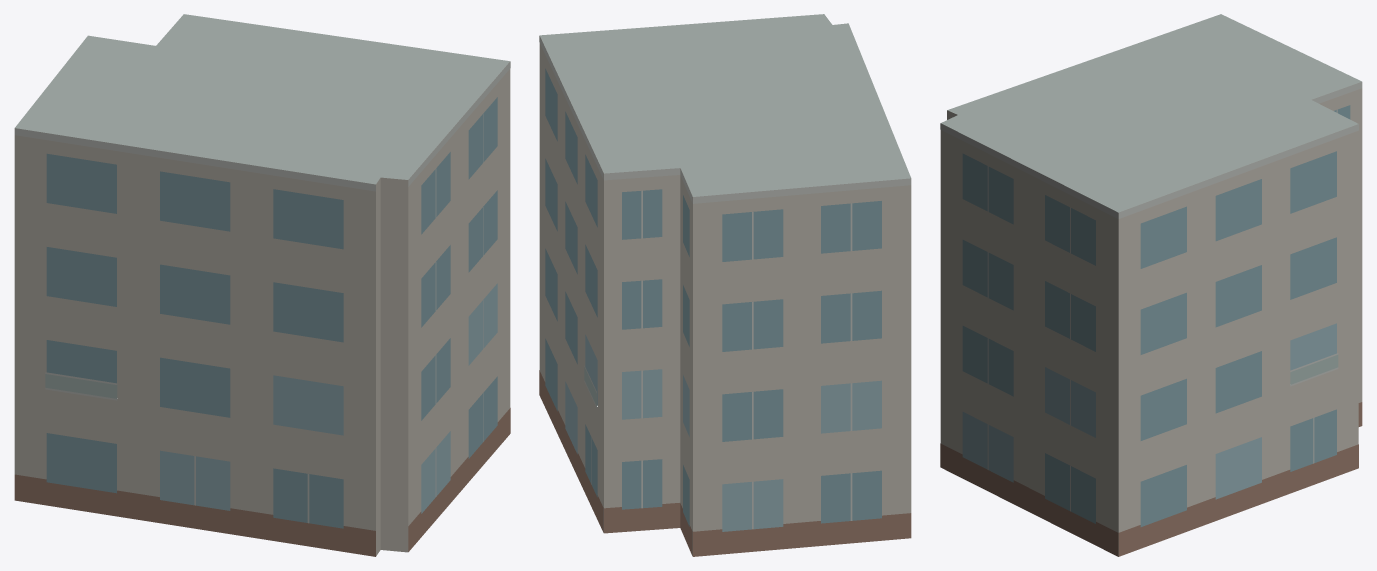
The model's file is survey-upis-32738107.glb.
The picture shows the model from 3 angles, left to right: view 1: azimuth 30°, elevation 25°; view 2: azimuth 150°, elevation 25°; view 3: azimuth 270°, elevation 25°; orthographic projection. The views are drawn at different scales.
Parts seen in each view (by area): view 1: survey-upis-32738107.tmp; view 2: survey-upis-32738107.tmp; view 3: survey-upis-32738107.tmp.
Part boxes in pixels (x1,y1,x2,y2): survey-upis-32738107.tmp: [14, 14, 510, 556]; survey-upis-32738107.tmp: [539, 14, 911, 556]; survey-upis-32738107.tmp: [940, 14, 1362, 556].
Size of the model in its own units: 15.85 by 12.8 by 14.22.
